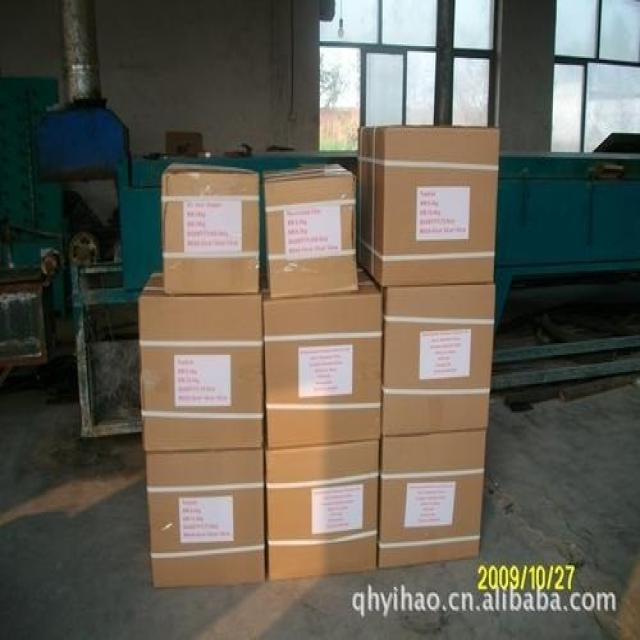box: (357, 126, 499, 285), (140, 273, 265, 449), (264, 265, 383, 449), (383, 283, 495, 437), (146, 447, 266, 587), (266, 439, 379, 580), (378, 428, 486, 572), (262, 164, 360, 299), (161, 162, 260, 294)
